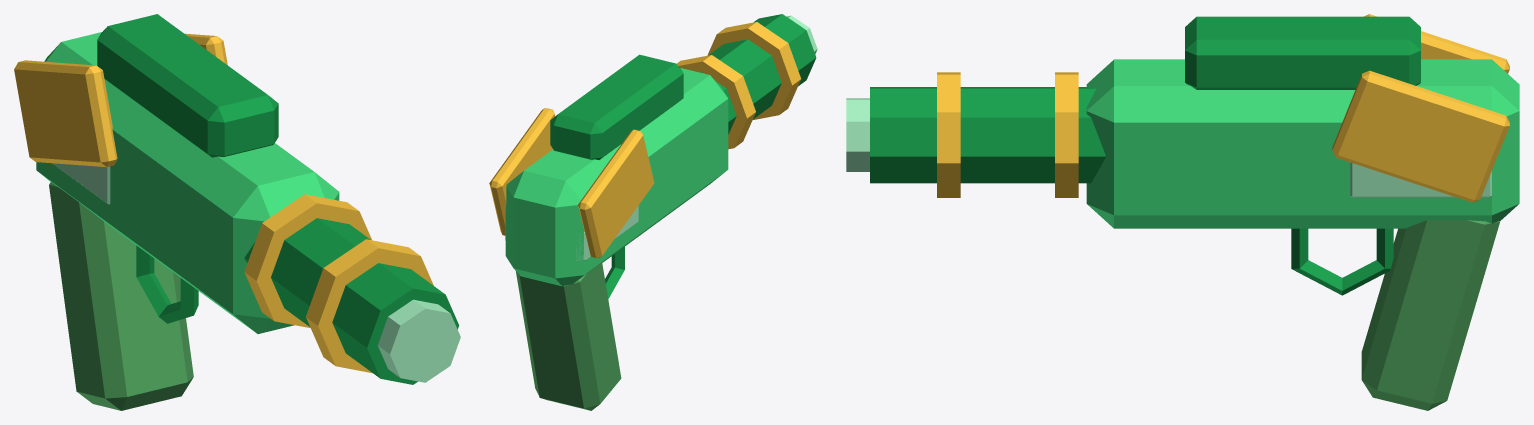
File: EmeraldLaserBlaster.fbx
3 views of the same model, side by side, from view 1: azimuth 30°, elevation 25°; view 2: azimuth 150°, elevation 25°; view 3: azimuth 270°, elevation 25° (orthographic). The views are drawn at different scales.
Parts seen in each view (by area): view 1: EmeraldLaserBlaster; view 2: EmeraldLaserBlaster; view 3: EmeraldLaserBlaster.
Part boxes in pixels (x1=…): EmeraldLaserBlaster: x1=14, y1=14, x2=460, y2=410; EmeraldLaserBlaster: x1=489, y1=14, x2=817, y2=410; EmeraldLaserBlaster: x1=846, y1=14, x2=1519, y2=410.
Size of the model in its own units: 0.78 by 2.07 by 3.42.
Materials: 1 (1 with a texture image).
